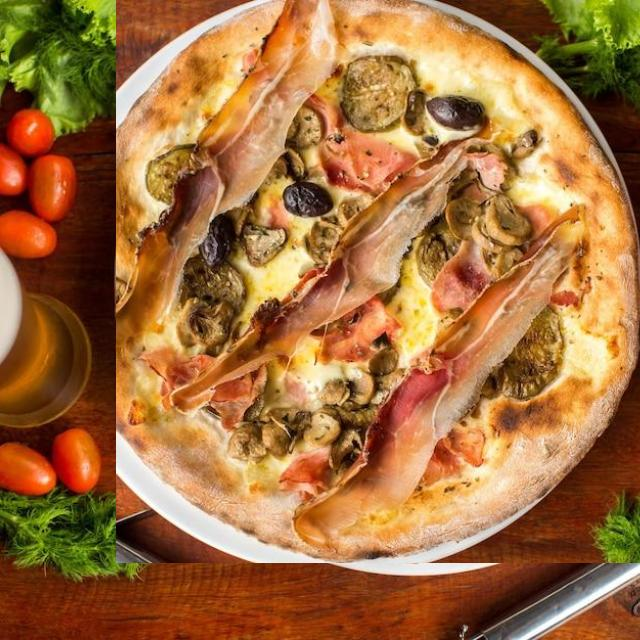olive: (270, 96, 328, 128), (525, 214, 557, 266), (424, 183, 472, 217)
pizza: (116, 0, 640, 563)
